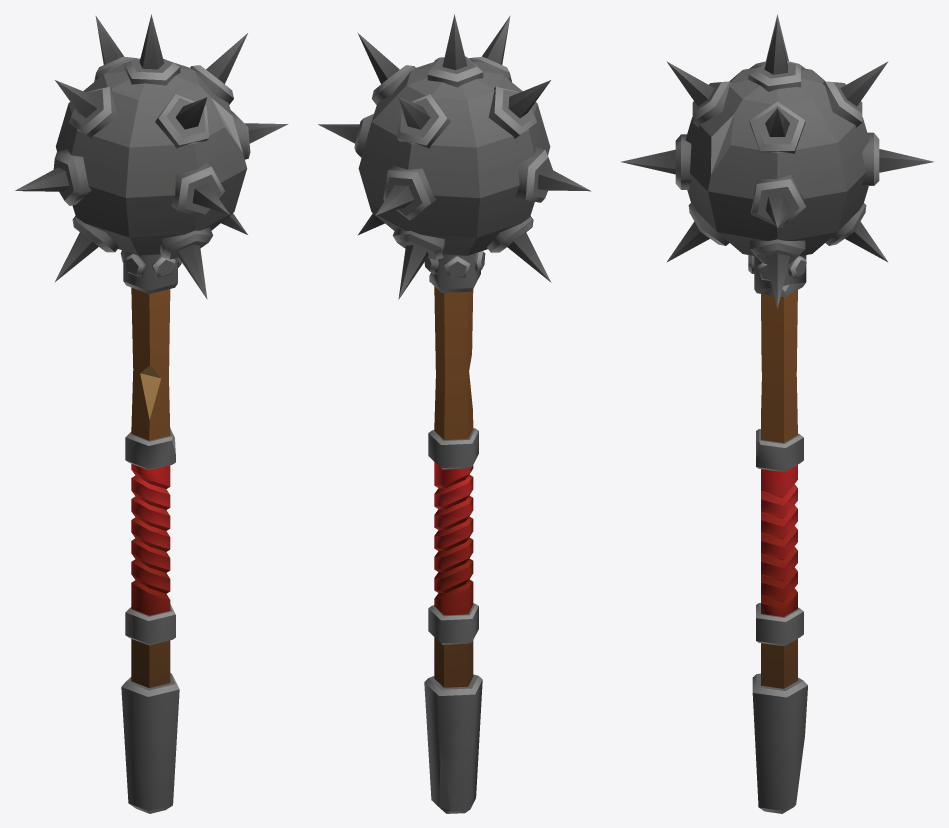
The model's file is SpikedClub_2_A.glb.
The picture shows the model from 3 angles, left to right: view 1: azimuth 30°, elevation 25°; view 2: azimuth 150°, elevation 25°; view 3: azimuth 270°, elevation 25°; orthographic projection.
Visible parts, largest first — view 1: SpikedClub_2_A; view 2: SpikedClub_2_A; view 3: SpikedClub_2_A.
Part boxes in pixels (x1,y1,x2,y2): SpikedClub_2_A: (15, 14, 288, 813); SpikedClub_2_A: (318, 14, 591, 813); SpikedClub_2_A: (621, 14, 934, 813).
Bounding box in the file's own units: 0.5071 × 1.4 × 0.5071.
2 materials, 2 textured.
